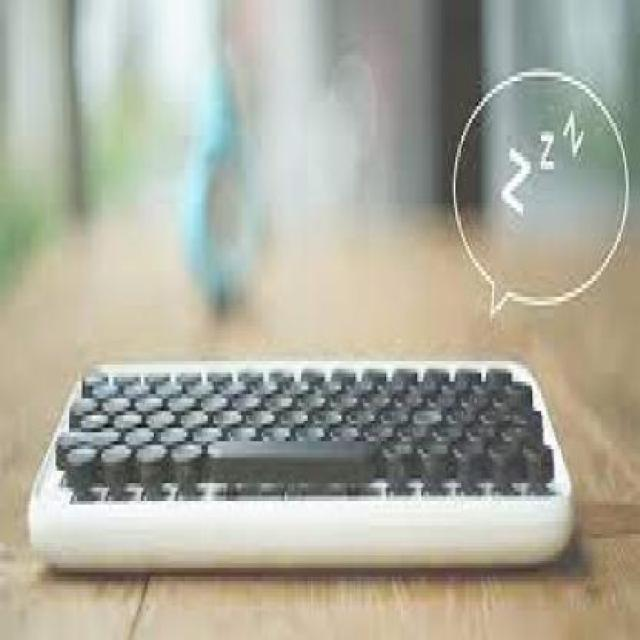keyboard: (26, 361, 578, 509)
